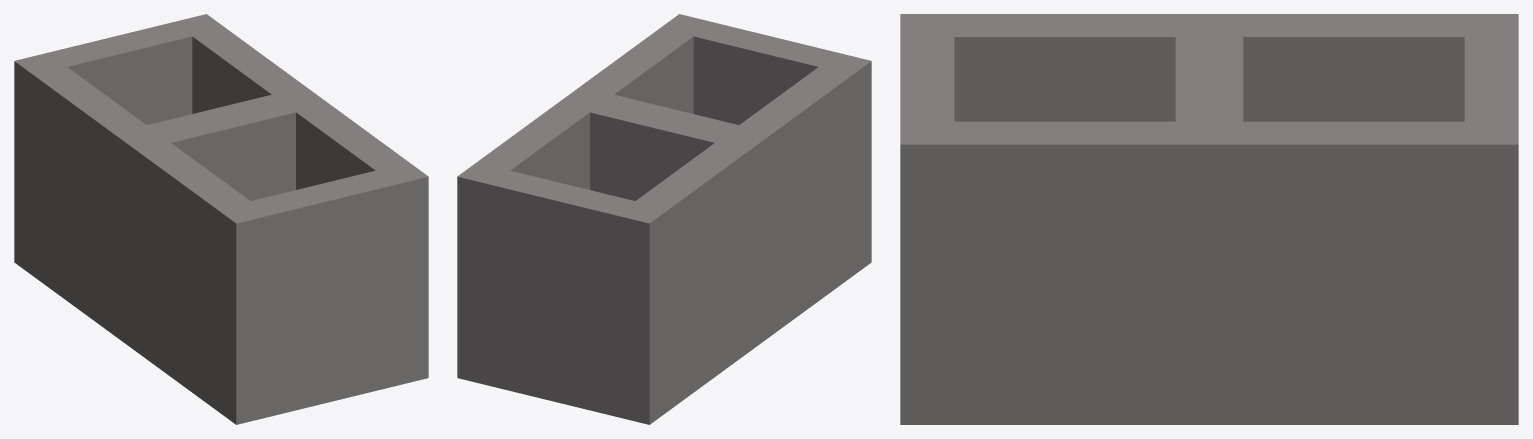
The model's file is SM_Prop_Block_01.fbx.
3 views of the same model, side by side, from view 1: azimuth 30°, elevation 25°; view 2: azimuth 150°, elevation 25°; view 3: azimuth 270°, elevation 25° (orthographic). The views are drawn at different scales.
Parts seen in each view (by area): view 1: SM_Prop_Block_01; view 2: SM_Prop_Block_01; view 3: SM_Prop_Block_01.
Part boxes in pixels (x1=…): SM_Prop_Block_01: x1=14, y1=14, x2=428, y2=424; SM_Prop_Block_01: x1=457, y1=14, x2=871, y2=424; SM_Prop_Block_01: x1=900, y1=14, x2=1518, y2=424.
Size of the model in its own units: 21.69 by 21.69 by 43.38.
